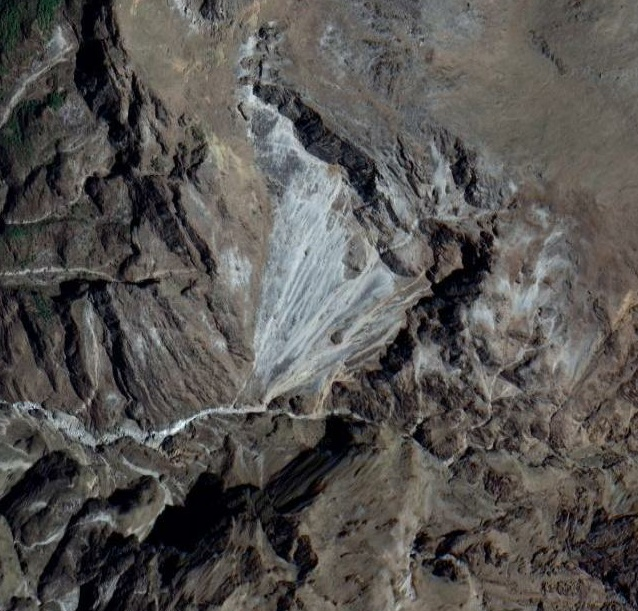slope: (244, 89, 406, 410)
